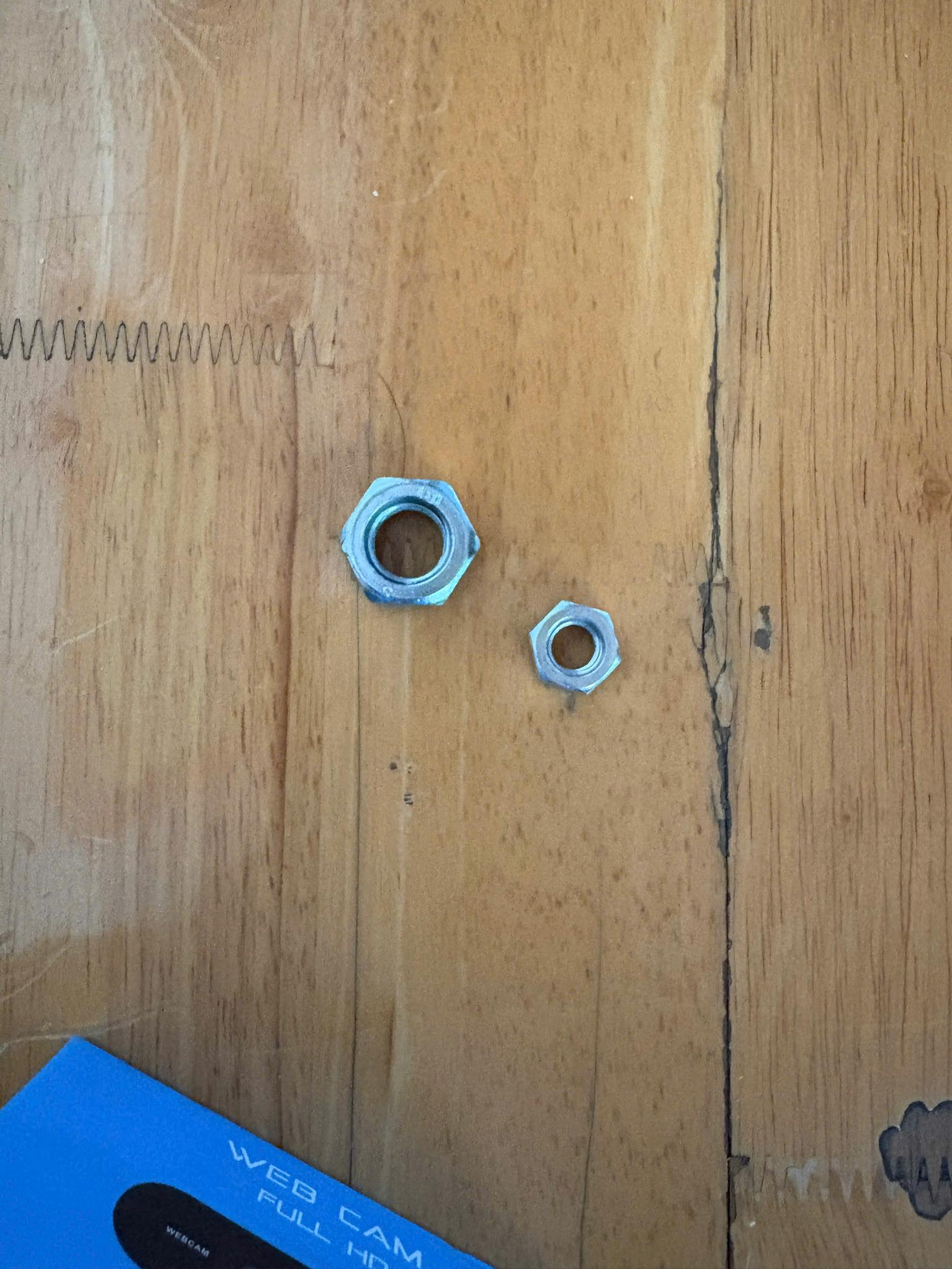nut: (337, 469, 488, 623), (528, 595, 621, 698)
